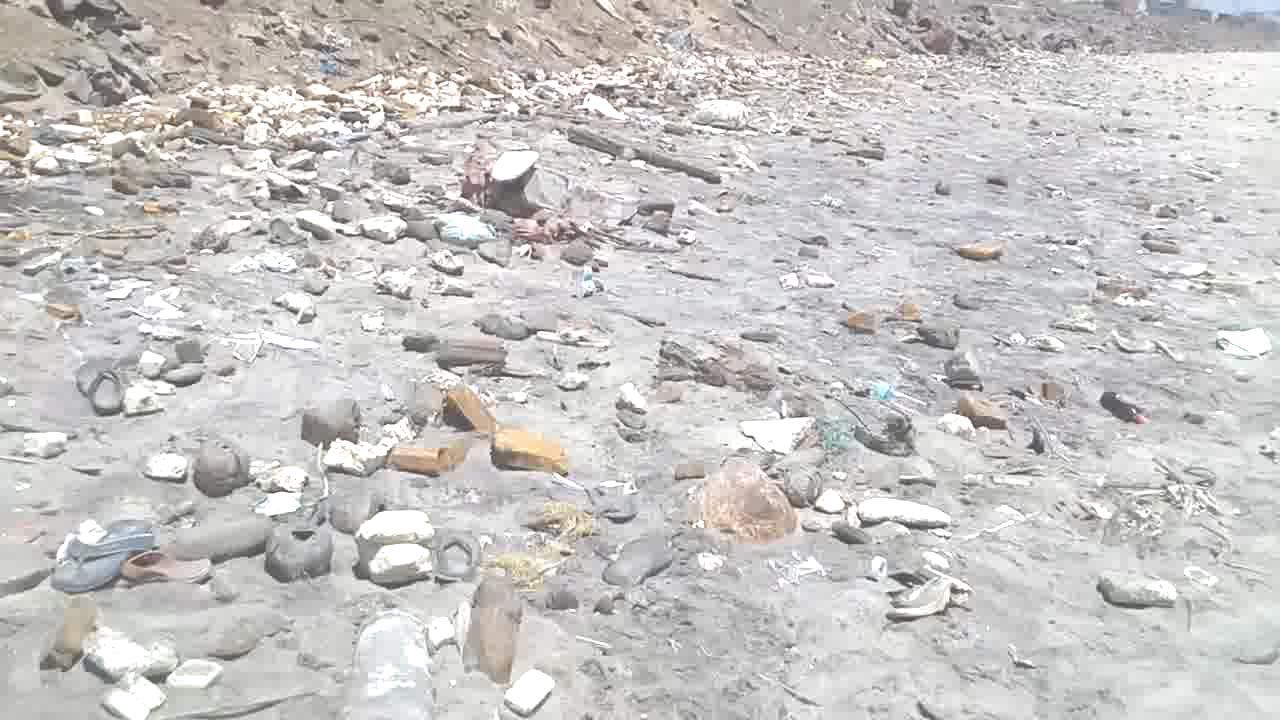large collection of objects: (0, 50, 804, 197), (683, 463, 804, 542), (346, 609, 428, 719), (1100, 391, 1146, 425)
obj: (36, 593, 229, 719), (471, 496, 606, 596), (563, 126, 730, 184), (652, 337, 778, 389), (52, 521, 152, 586), (353, 506, 436, 584), (322, 422, 422, 476), (396, 328, 508, 376), (1086, 563, 1196, 611), (500, 209, 594, 262), (241, 458, 313, 516), (950, 356, 1009, 424), (490, 424, 563, 476), (741, 414, 818, 459), (195, 440, 252, 500), (852, 496, 965, 526), (118, 349, 166, 416), (434, 386, 498, 433), (120, 550, 211, 582), (503, 666, 557, 714), (839, 303, 925, 333), (76, 362, 122, 414), (404, 444, 476, 472), (682, 100, 758, 126), (436, 213, 496, 243), (1216, 328, 1272, 360), (872, 381, 922, 414), (141, 448, 187, 481), (492, 149, 538, 182), (1092, 276, 1150, 302), (25, 426, 67, 460), (1150, 253, 1211, 274), (778, 271, 834, 292), (952, 241, 1008, 260)
sand/background: (0, 0, 1279, 207)
